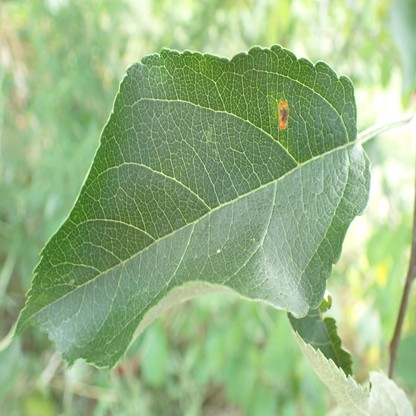rust: (275, 100, 289, 128)
